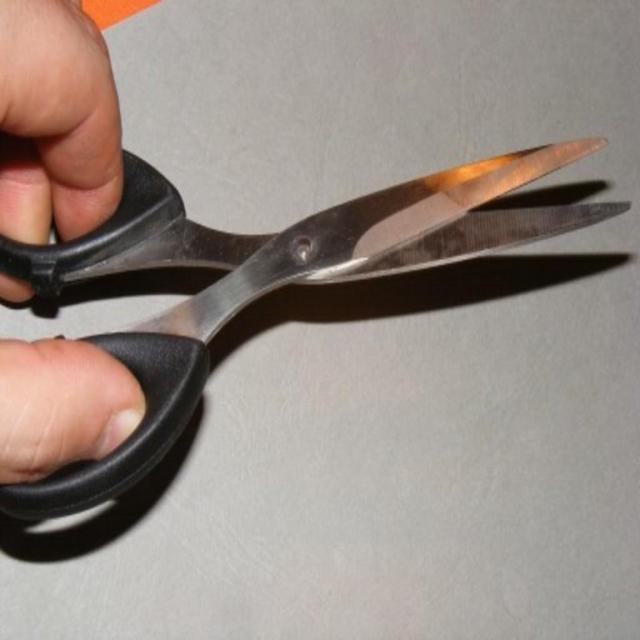scissor: (0, 138, 635, 522)
